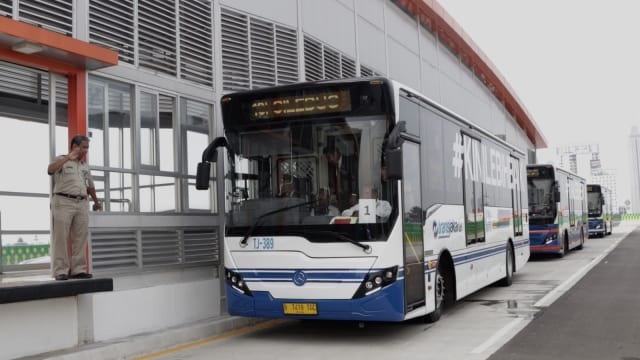plate: (283, 303, 314, 318)
